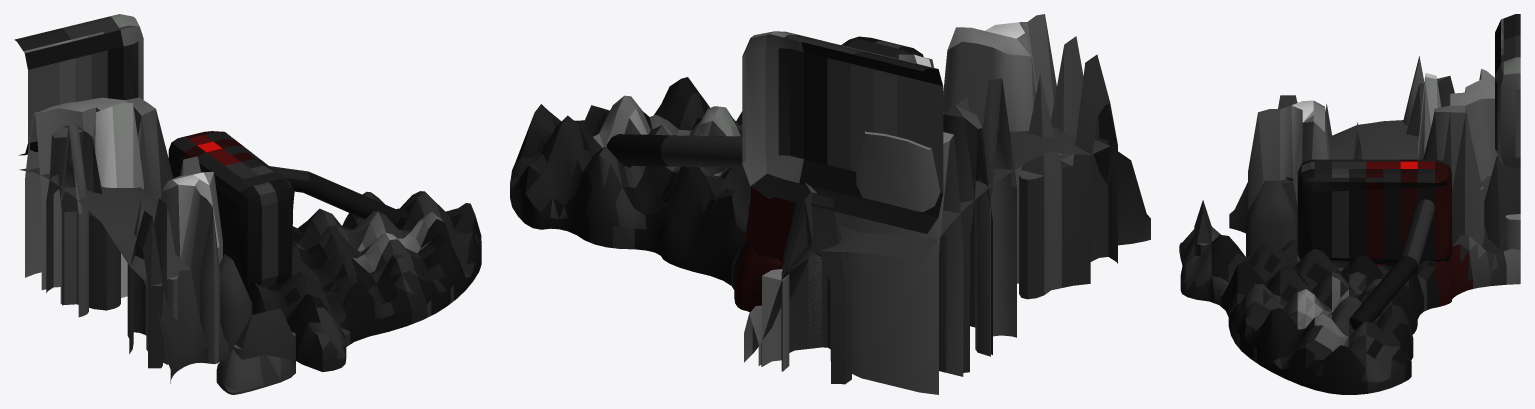
File: deli_tower_127.glb
The picture shows the model from 3 angles, left to right: view 1: azimuth 30°, elevation 25°; view 2: azimuth 150°, elevation 25°; view 3: azimuth 270°, elevation 25°; orthographic projection. The views are drawn at different scales.
Visible parts, largest first — view 1: deli_tower_127_wreck, deli_tower_127_hull_dark, deli_tower_127_hull_mid, deli_tower_127_wreck_mount, deli_tower_127_s4_low, deli_tower_127_hull_gaps, deli_tower_127_hull_red, deli_tower_127_hull_light, deli_tower_127_wreck_strut, deli_tower_127_hull_brown; view 2: deli_tower_127_hull_mid, deli_tower_127_wreck, deli_tower_127_hull_dark, deli_tower_127_s4_low, deli_tower_127_hull_red, deli_tower_127_hull_gaps, deli_tower_127_wreck_strut, deli_tower_127_wreck_mount; view 3: deli_tower_127_wreck, deli_tower_127_wreck_mount, deli_tower_127_hull_mid, deli_tower_127_hull_red, deli_tower_127_hull_gaps, deli_tower_127_hull_dark, deli_tower_127_s4_low, deli_tower_127_wreck_strut, deli_tower_127_hull_brown, deli_tower_127_hull_light.
Boxes of the visible parts, left/top/right/bottom form: deli_tower_127_wreck: left=245, top=191, right=481, bottom=371; deli_tower_127_hull_dark: left=46, top=124, right=295, bottom=368; deli_tower_127_hull_mid: left=25, top=97, right=201, bottom=364; deli_tower_127_wreck_mount: left=168, top=131, right=294, bottom=287; deli_tower_127_s4_low: left=14, top=14, right=143, bottom=155; deli_tower_127_hull_gaps: left=19, top=168, right=295, bottom=394; deli_tower_127_hull_red: left=161, top=172, right=222, bottom=364; deli_tower_127_hull_light: left=93, top=103, right=143, bottom=297; deli_tower_127_wreck_strut: left=269, top=166, right=404, bottom=228; deli_tower_127_hull_brown: left=219, top=254, right=252, bottom=353; deli_tower_127_hull_mid: left=762, top=36, right=1083, bottom=394; deli_tower_127_wreck: left=510, top=77, right=783, bottom=365; deli_tower_127_hull_dark: left=781, top=54, right=1117, bottom=384; deli_tower_127_s4_low: left=742, top=31, right=943, bottom=233; deli_tower_127_hull_red: left=943, top=14, right=1056, bottom=283; deli_tower_127_hull_gaps: left=761, top=127, right=1150, bottom=366; deli_tower_127_wreck_strut: left=606, top=134, right=743, bottom=167; deli_tower_127_wreck_mount: left=745, top=36, right=923, bottom=262; deli_tower_127_wreck: left=1180, top=234, right=1520, bottom=394; deli_tower_127_wreck_mount: left=1297, top=159, right=1451, bottom=268; deli_tower_127_hull_mid: left=1278, top=56, right=1520, bottom=250; deli_tower_127_hull_red: left=1248, top=100, right=1330, bottom=211; deli_tower_127_hull_gaps: left=1179, top=120, right=1507, bottom=265; deli_tower_127_hull_dark: left=1194, top=76, right=1520, bottom=255; deli_tower_127_s4_low: left=1495, top=14, right=1520, bottom=168; deli_tower_127_wreck_strut: left=1349, top=199, right=1434, bottom=330; deli_tower_127_hull_brown: left=1246, top=180, right=1297, bottom=257; deli_tower_127_hull_light: left=1417, top=73, right=1441, bottom=159.
Bounding box in the file's own units: 22.99 × 13.77 × 19.86.
